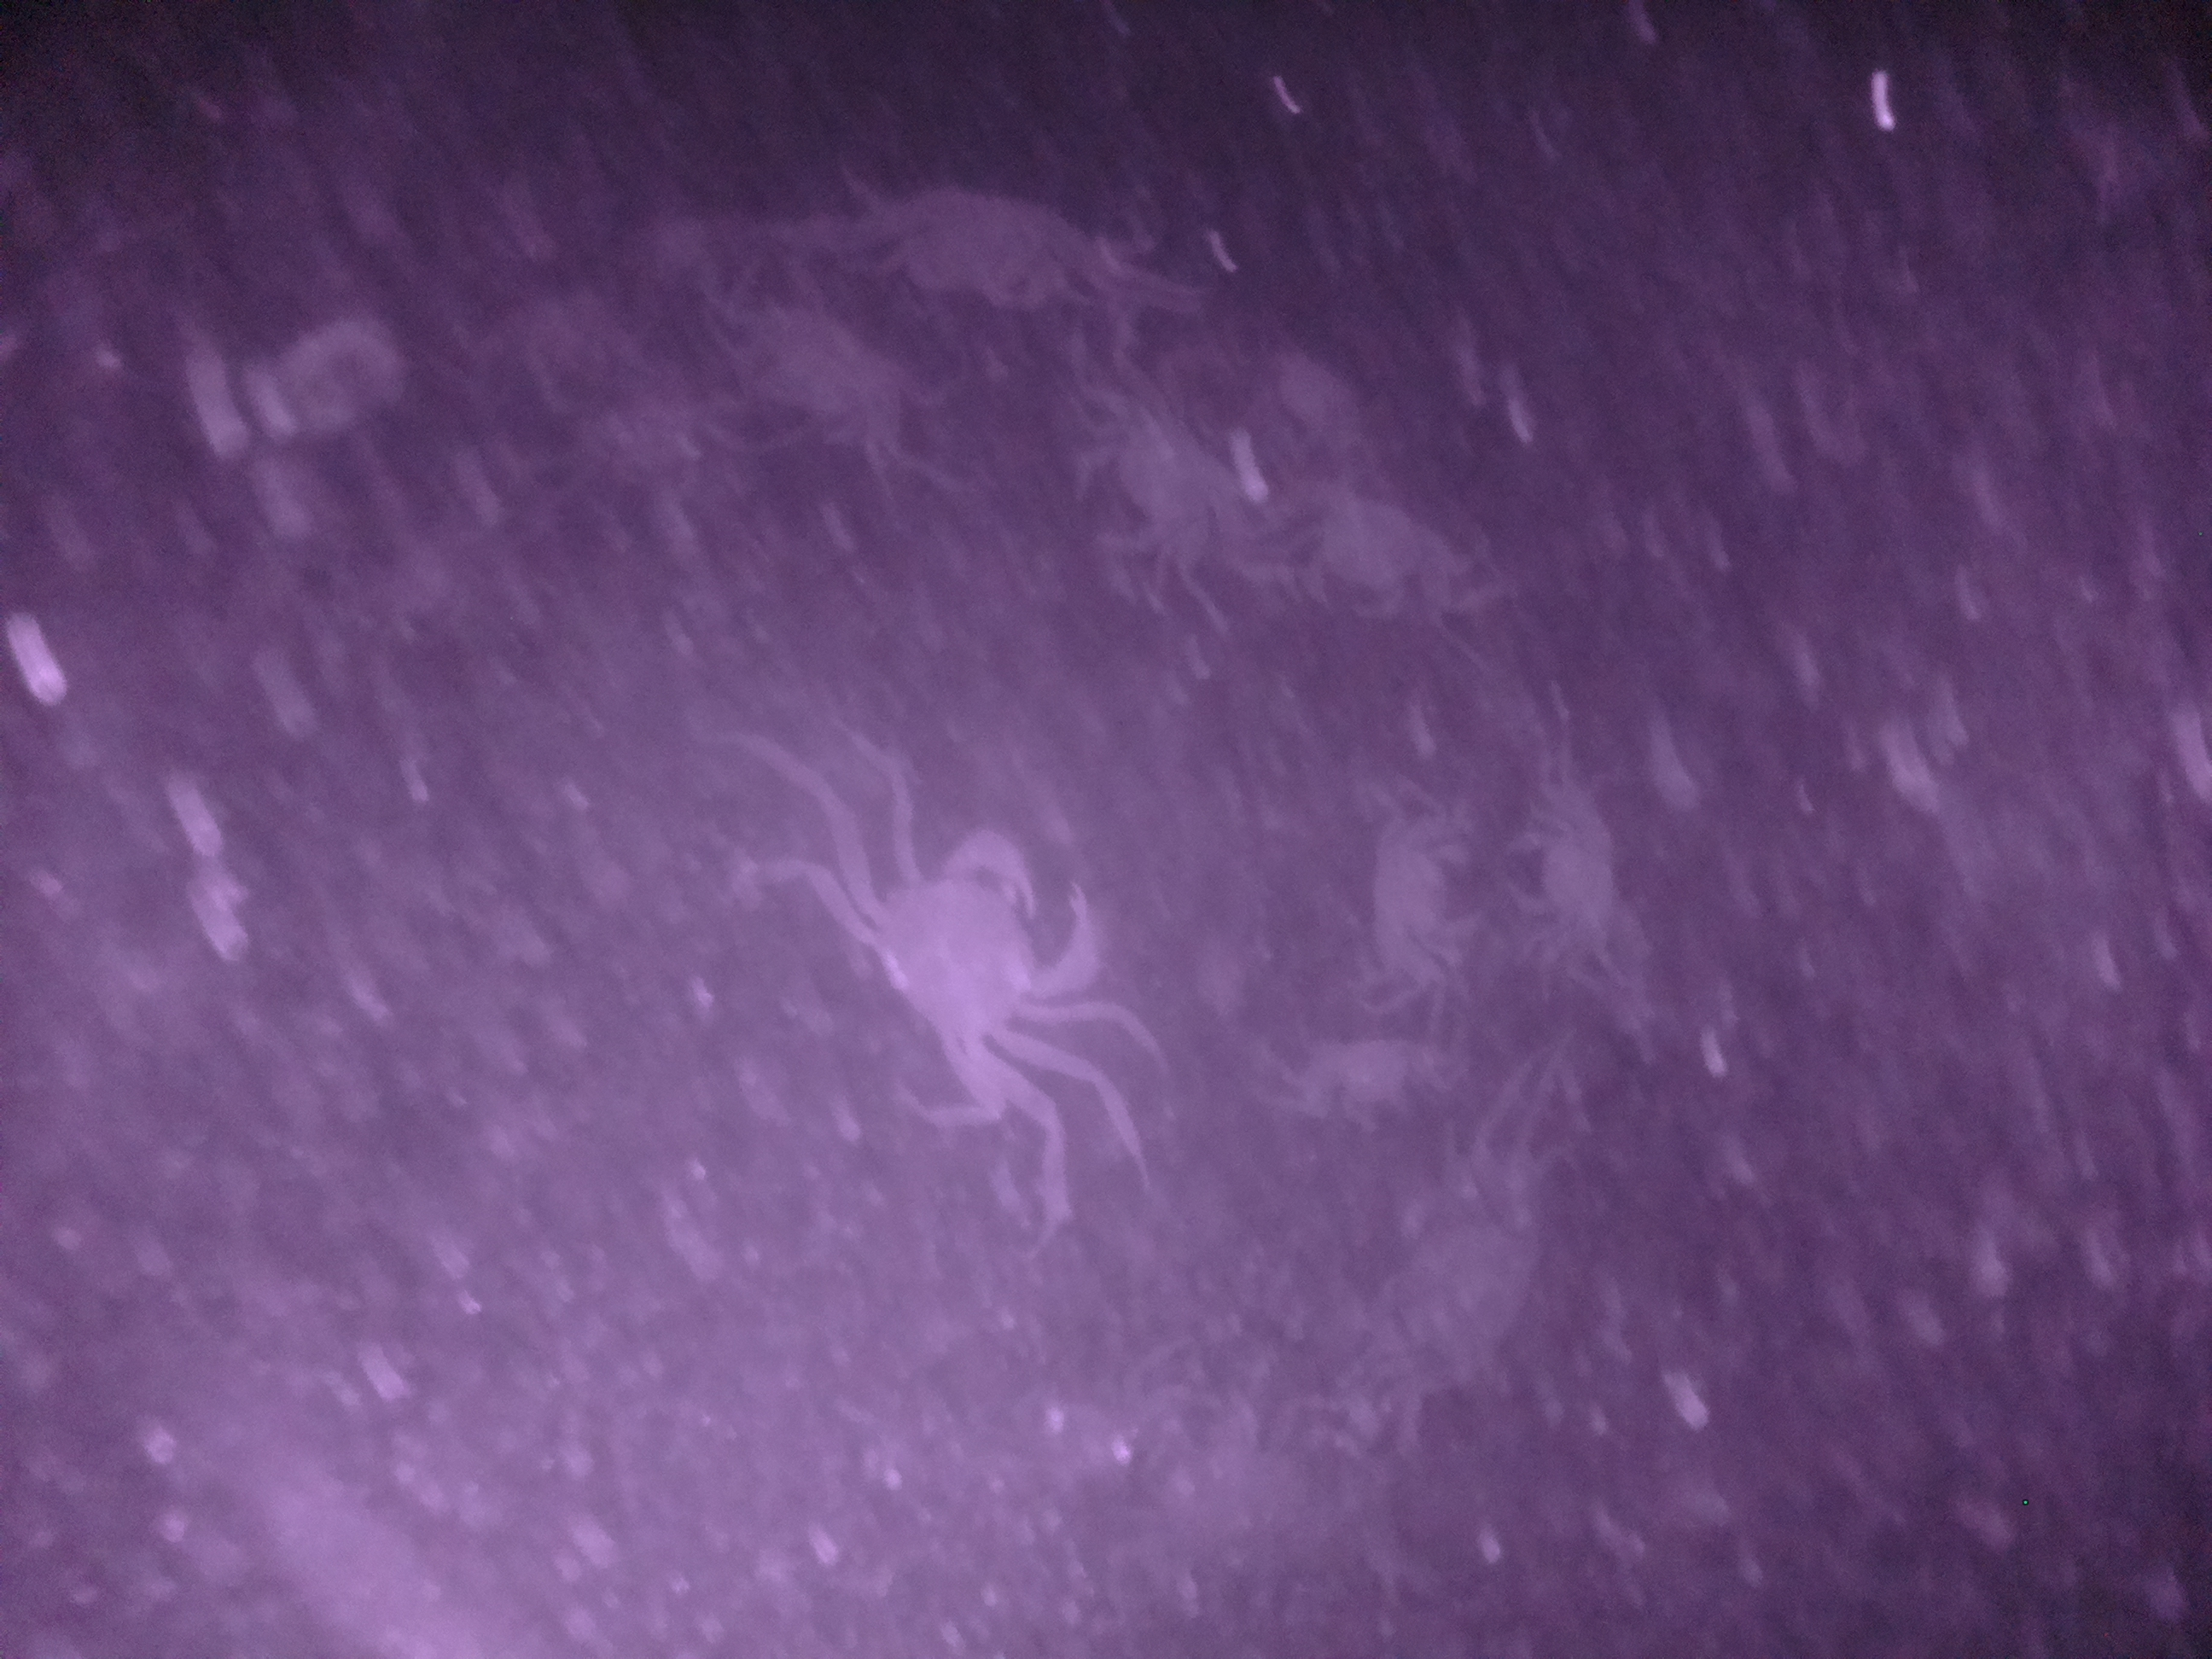Crab: (866, 795, 1103, 1107), (1059, 369, 1233, 598), (1268, 481, 1496, 624), (1501, 762, 1663, 960), (1355, 795, 1472, 965), (1305, 1023, 1474, 1136)
